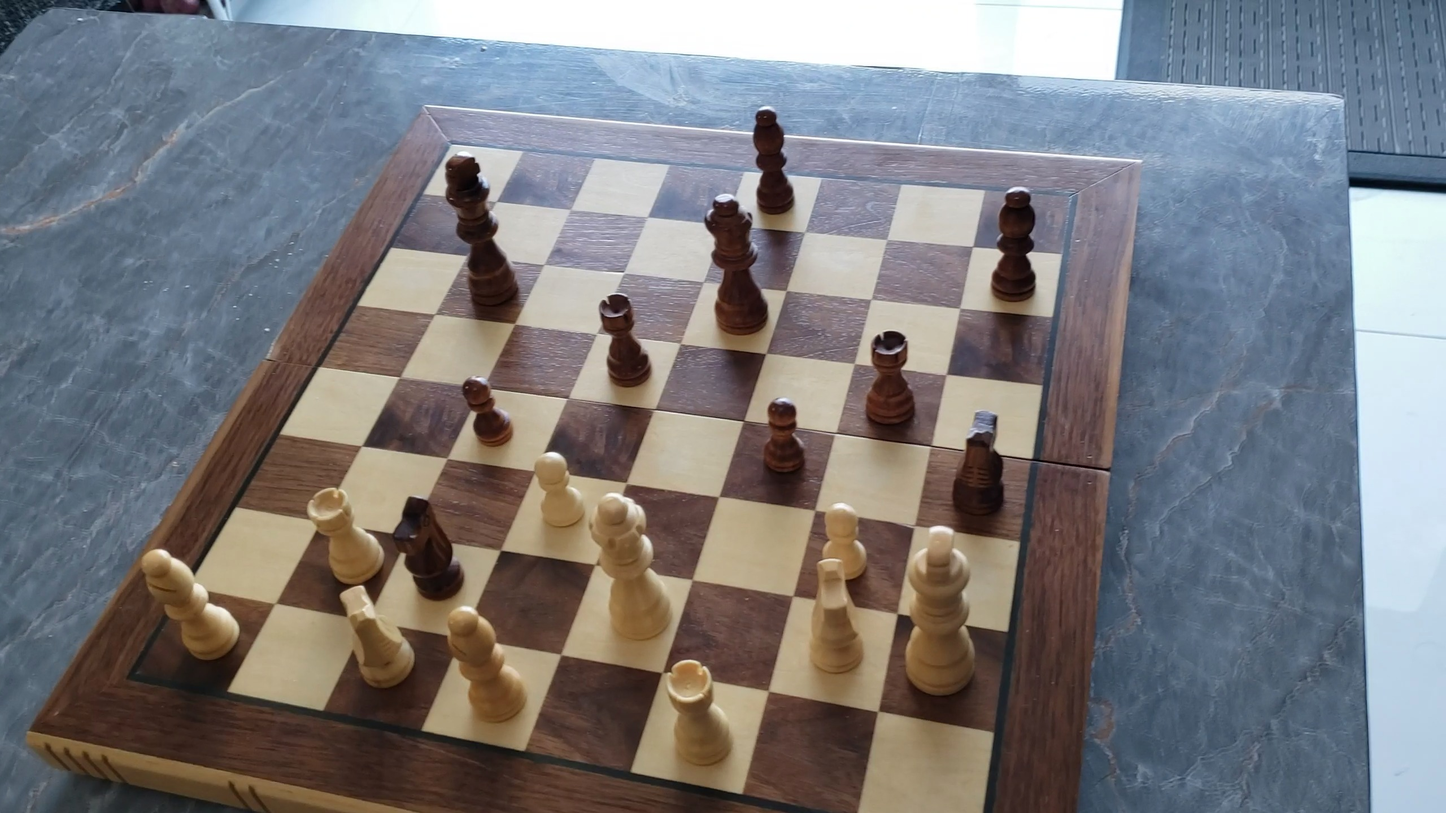black-bishop: (989, 182, 1039, 302), (749, 102, 795, 216)
black-king: (424, 140, 534, 316)
black-knight: (942, 404, 1015, 535), (391, 493, 466, 600)
black-pawn: (458, 372, 514, 448), (760, 394, 807, 477)
black-queen: (700, 189, 771, 337)
black-rook: (596, 291, 654, 387), (863, 329, 916, 427)
white-bishop: (136, 545, 243, 665), (439, 604, 532, 727)
white-knight: (334, 585, 421, 694), (804, 555, 867, 678)
white-pawn: (528, 447, 587, 531), (816, 498, 869, 584)
white-queen: (897, 522, 982, 702), (583, 490, 676, 646)
white-rook: (660, 655, 737, 771), (303, 483, 386, 588)
